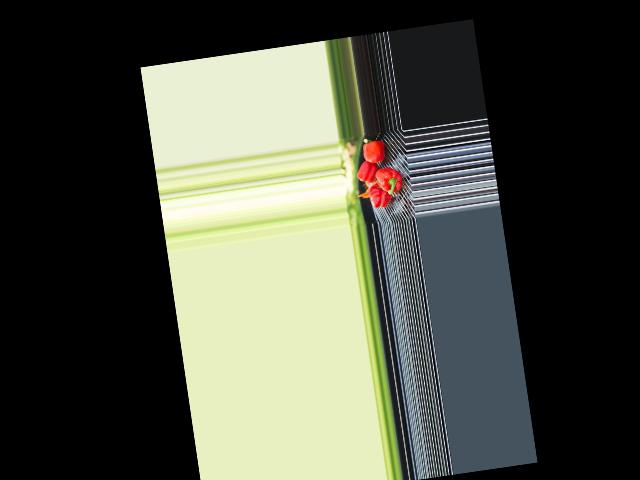bell_pepper: (366, 181, 391, 209)
